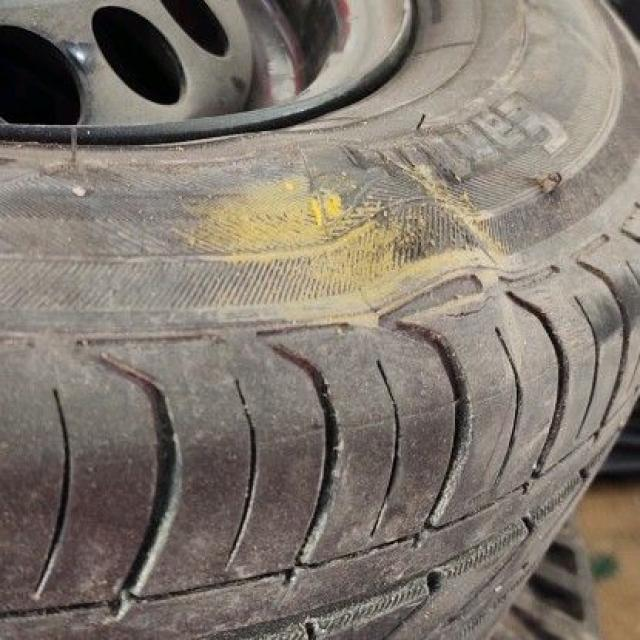Bulge: (334, 151, 523, 316)
